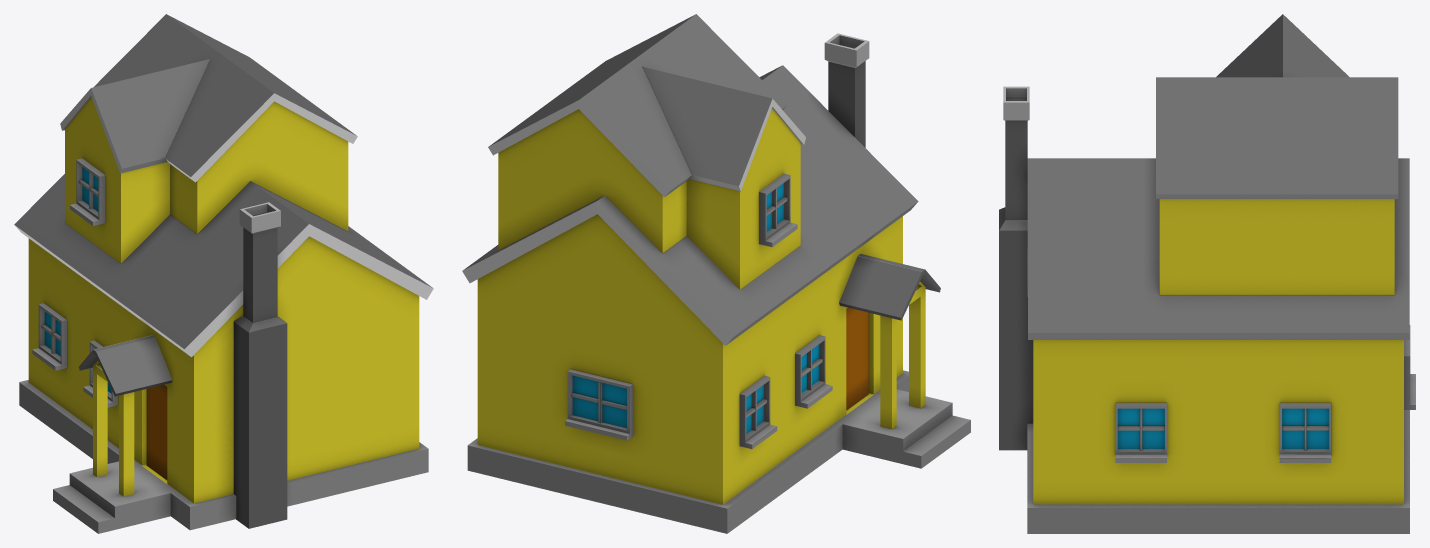
The model's file is building-house-family-small.glb.
3 views of the same model, side by side, from view 1: azimuth 30°, elevation 25°; view 2: azimuth 150°, elevation 25°; view 3: azimuth 270°, elevation 25° (orthographic). The views are drawn at different scales.
Visible parts, largest first — view 1: House Complete.001; view 2: House Complete.001; view 3: House Complete.001.
Boxes of the visible parts, left/top/right/bottom form: House Complete.001: left=14, top=14, right=433, bottom=533; House Complete.001: left=462, top=14, right=970, bottom=533; House Complete.001: left=999, top=14, right=1415, bottom=533.
Bounding box in the file's own units: 0.8214 × 0.8956 × 0.8368.
Materials: 1 (1 with a texture image).
